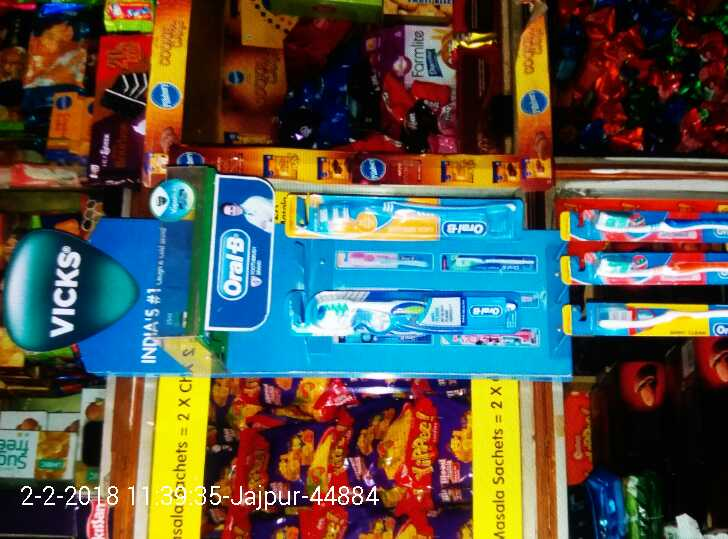oralb: (281, 192, 523, 246), (299, 288, 511, 331), (558, 293, 728, 341), (557, 247, 728, 291), (559, 205, 728, 247)
